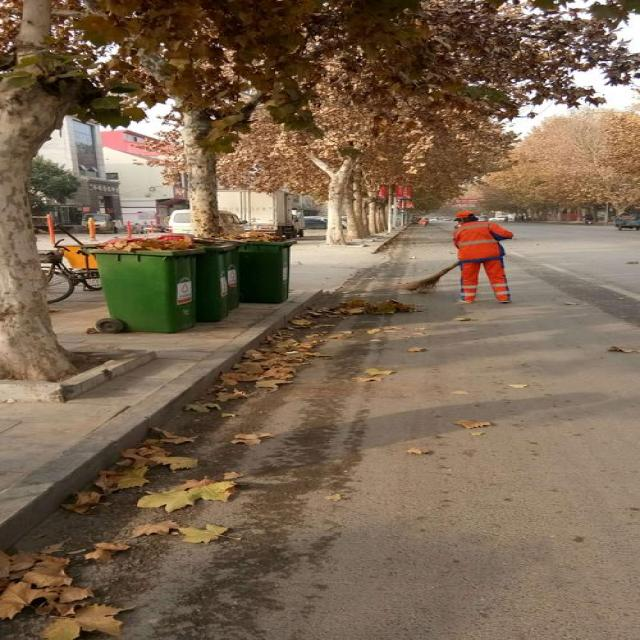overflow: (78, 233, 200, 332), (224, 232, 293, 302), (192, 237, 242, 321)
